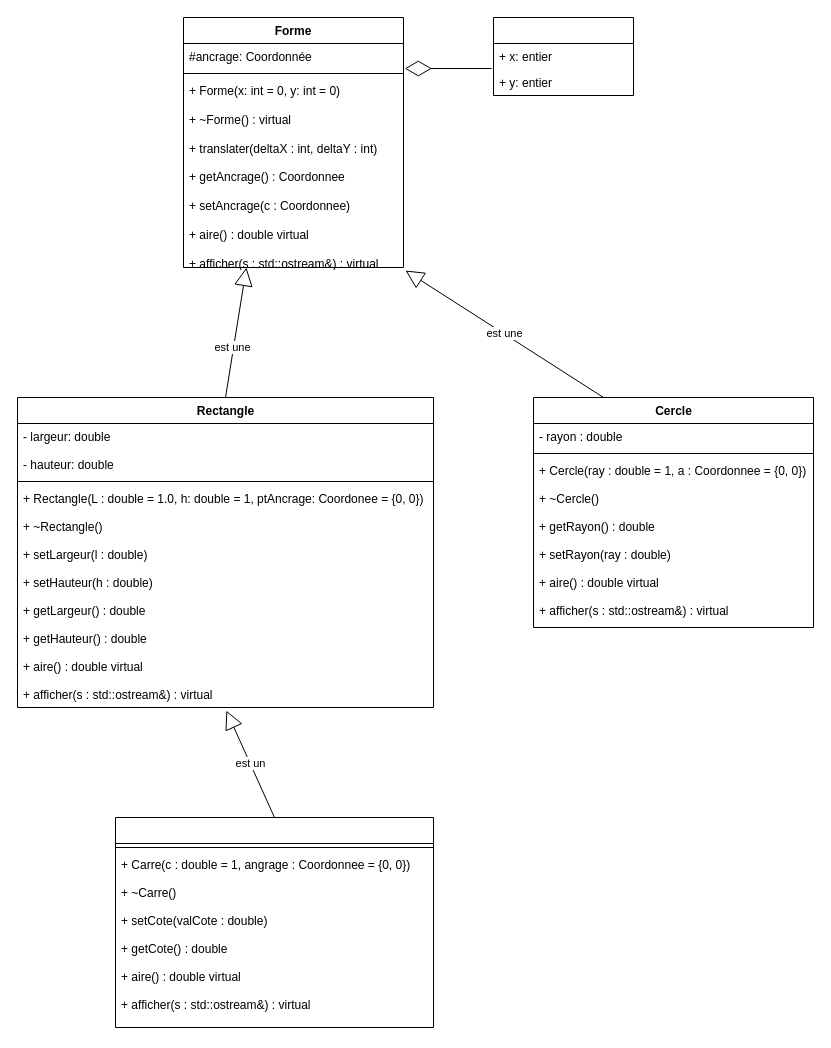
Image size: 831x1048. Some labels were removed from this diagram. Here are the shapes that lost their labels. From the top down, the box of each, then its label:
(492, 16, 634, 96): Coordonnee
(114, 816, 434, 1028): Carré
